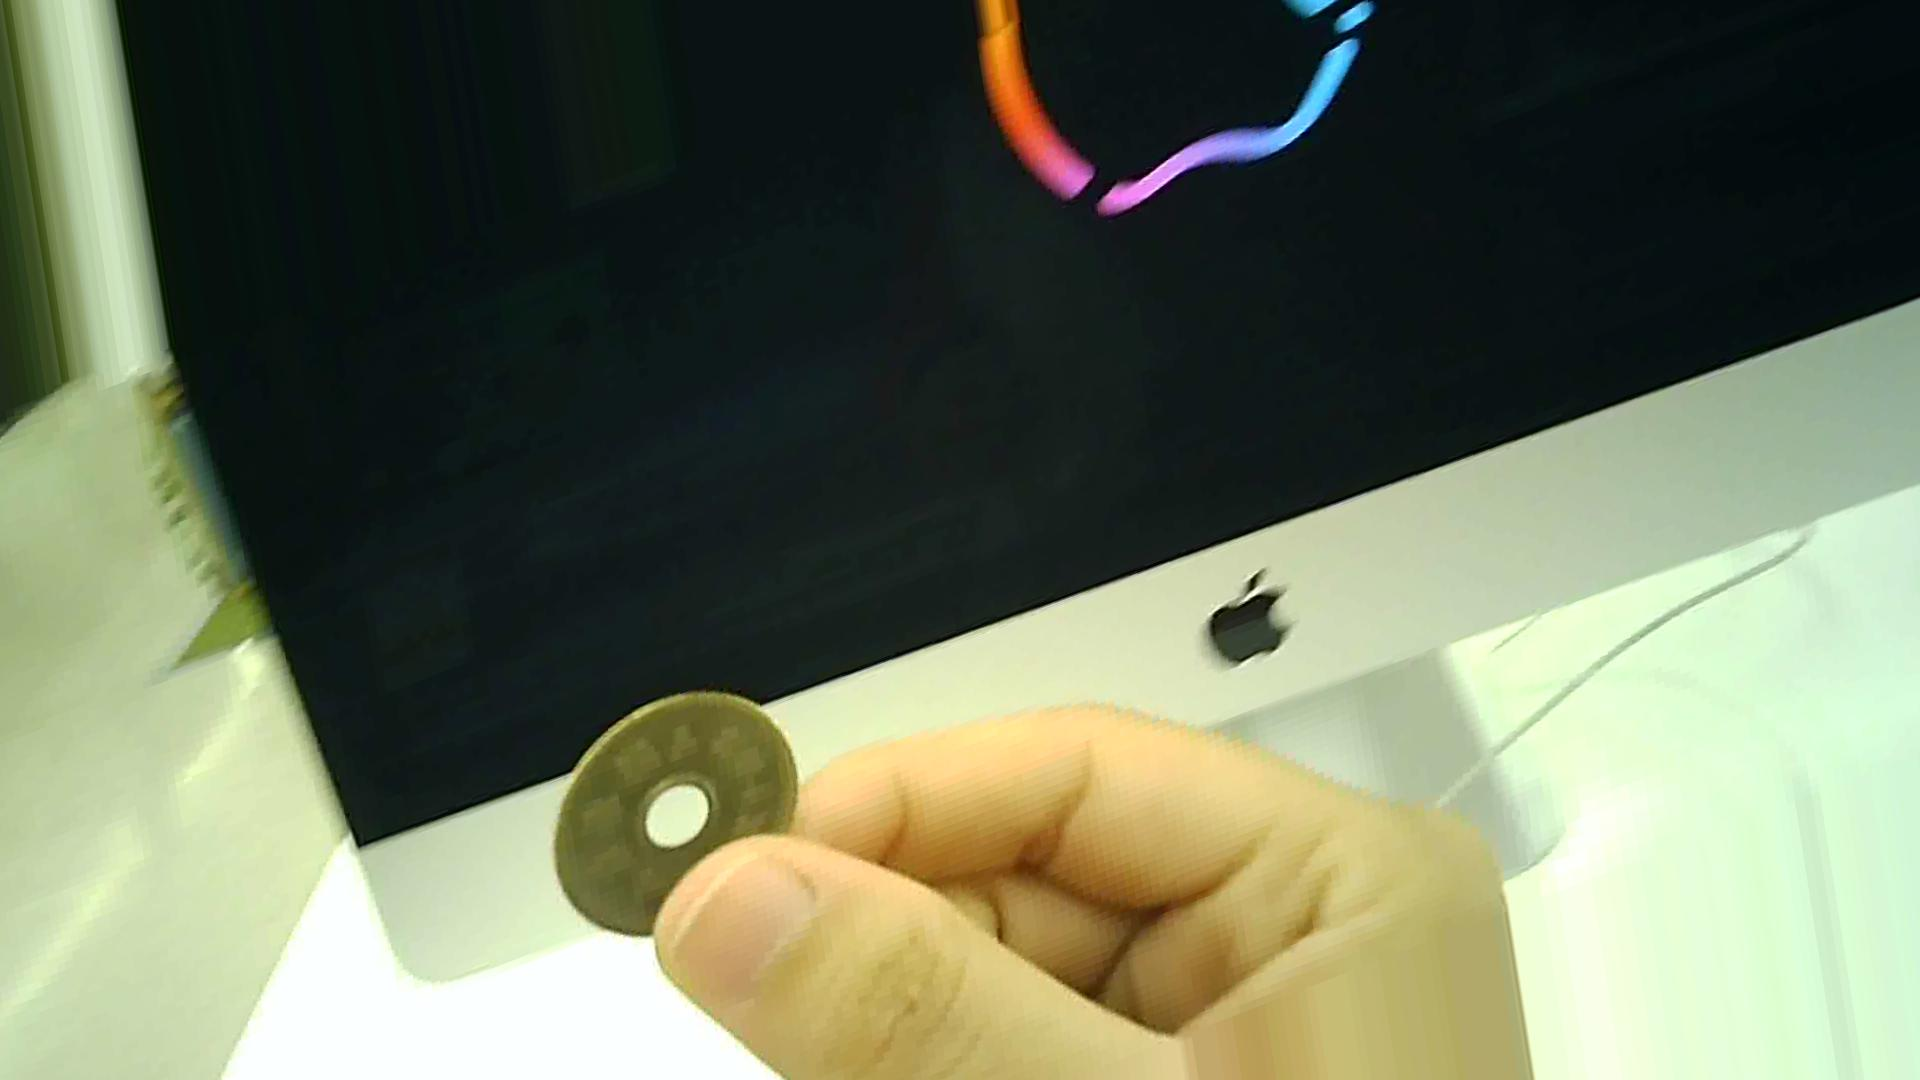5 Yen: (533, 694, 810, 939)
